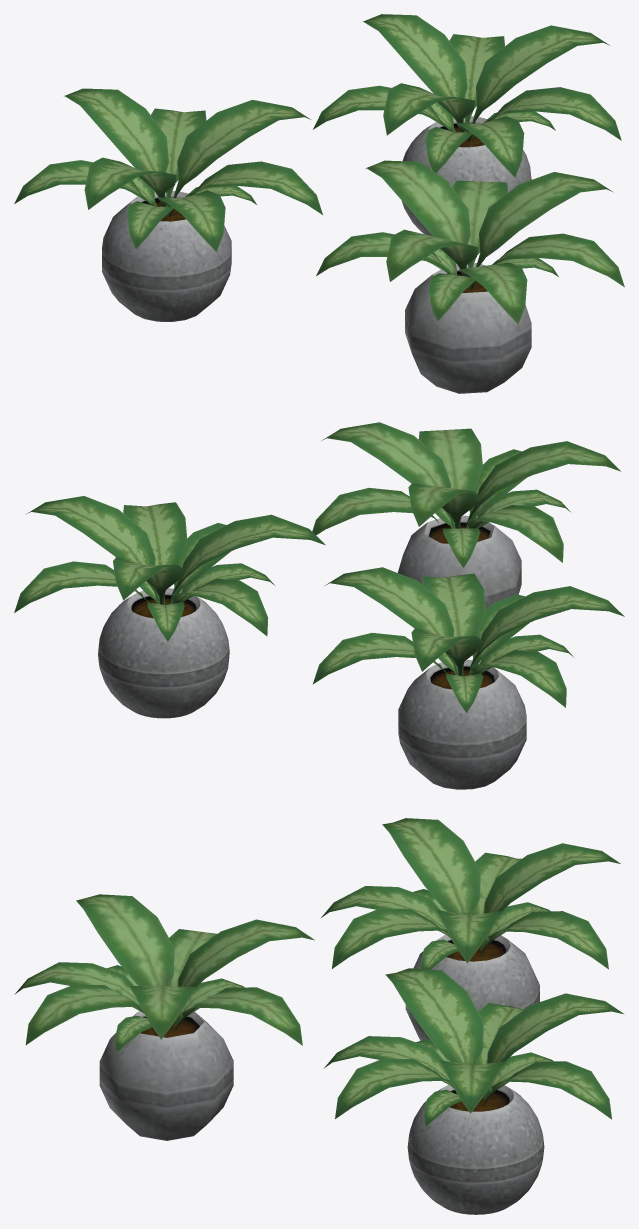
Rendered from flowerpot.glb.
3 renders of one model, top to bottom at view 1: azimuth 30°, elevation 25°; view 2: azimuth 150°, elevation 25°; view 3: azimuth 270°, elevation 25°, orthographic. The views are drawn at different scales.
Visible parts, largest first — view 1: c_flowerpot_lod2_Material(256px)_0, c_flowerpot_lod3_Material(128px)_0, c_flowerpot_lod1_Material(512px)_0; view 2: c_flowerpot_lod1_Material(512px)_0, c_flowerpot_lod2_Material(256px)_0, c_flowerpot_lod3_Material(128px)_0; view 3: c_flowerpot_lod1_Material(512px)_0, c_flowerpot_lod3_Material(128px)_0, c_flowerpot_lod2_Material(256px)_0.
Part boxes in pixels (bbox=[...]): c_flowerpot_lod2_Material(256px)_0: bbox=[14, 88, 322, 321]; c_flowerpot_lod3_Material(128px)_0: bbox=[316, 160, 624, 393]; c_flowerpot_lod1_Material(512px)_0: bbox=[313, 14, 621, 236]; c_flowerpot_lod1_Material(512px)_0: bbox=[14, 496, 325, 718]; c_flowerpot_lod2_Material(256px)_0: bbox=[312, 567, 624, 789]; c_flowerpot_lod3_Material(128px)_0: bbox=[312, 422, 620, 609]; c_flowerpot_lod1_Material(512px)_0: bbox=[323, 968, 624, 1214]; c_flowerpot_lod3_Material(128px)_0: bbox=[14, 894, 314, 1140]; c_flowerpot_lod2_Material(256px)_0: bbox=[320, 818, 620, 1040].
Bounding box in the file's own units: 4.95 × 1.49 × 4.47.
Materials: 3 (3 with a texture image).
